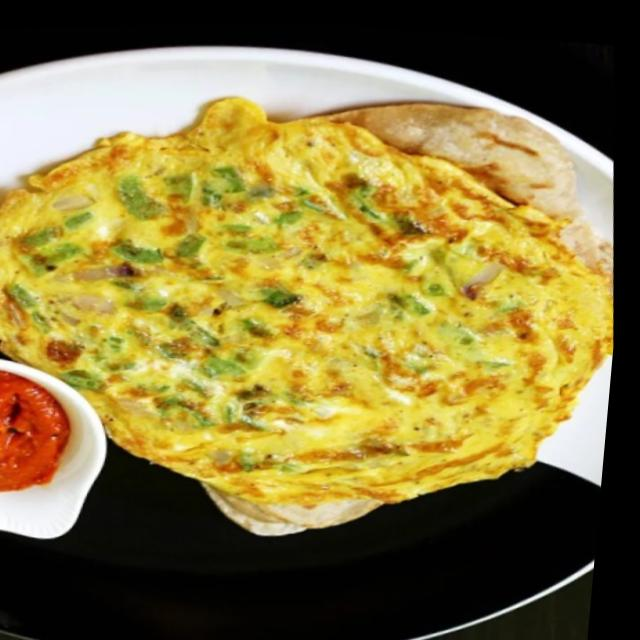EGG: (0, 90, 613, 535)
RED CHUTNEY: (0, 358, 69, 492)
